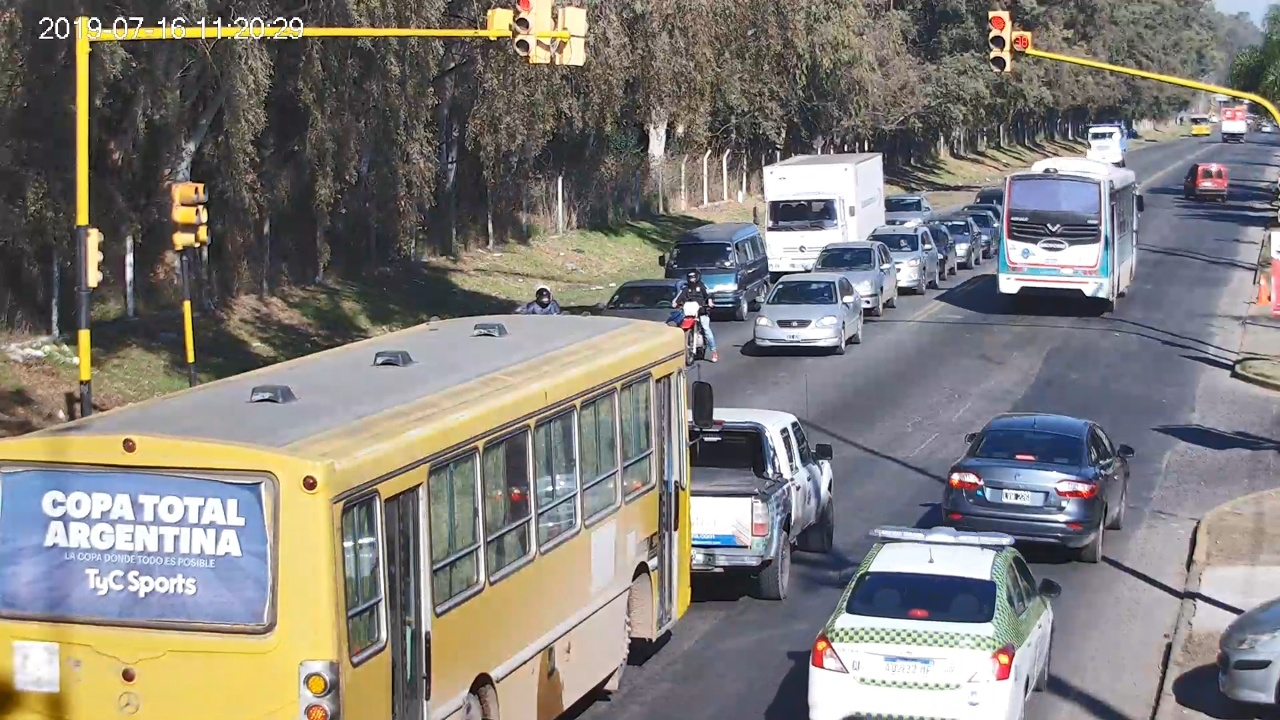bus: (1, 316, 714, 720), (997, 161, 1143, 313)
front car: (754, 272, 861, 354)
police car: (807, 523, 1061, 720)
traffic light: (988, 10, 1009, 72)
